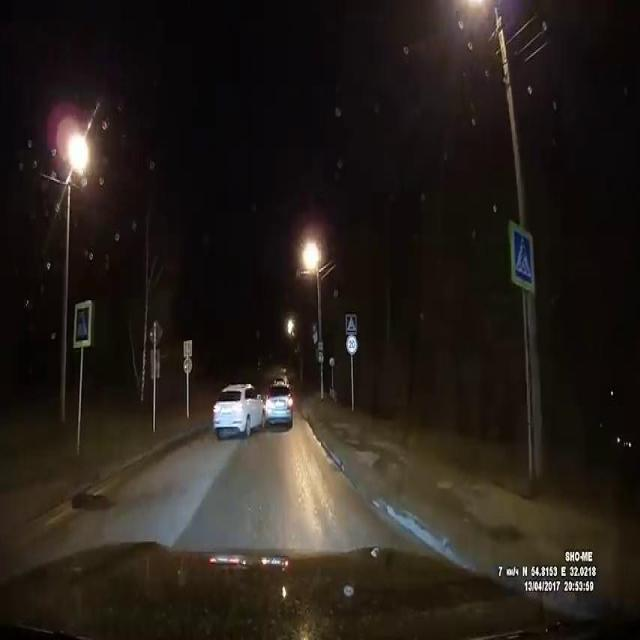multiple_accident: (199, 347, 313, 457)
